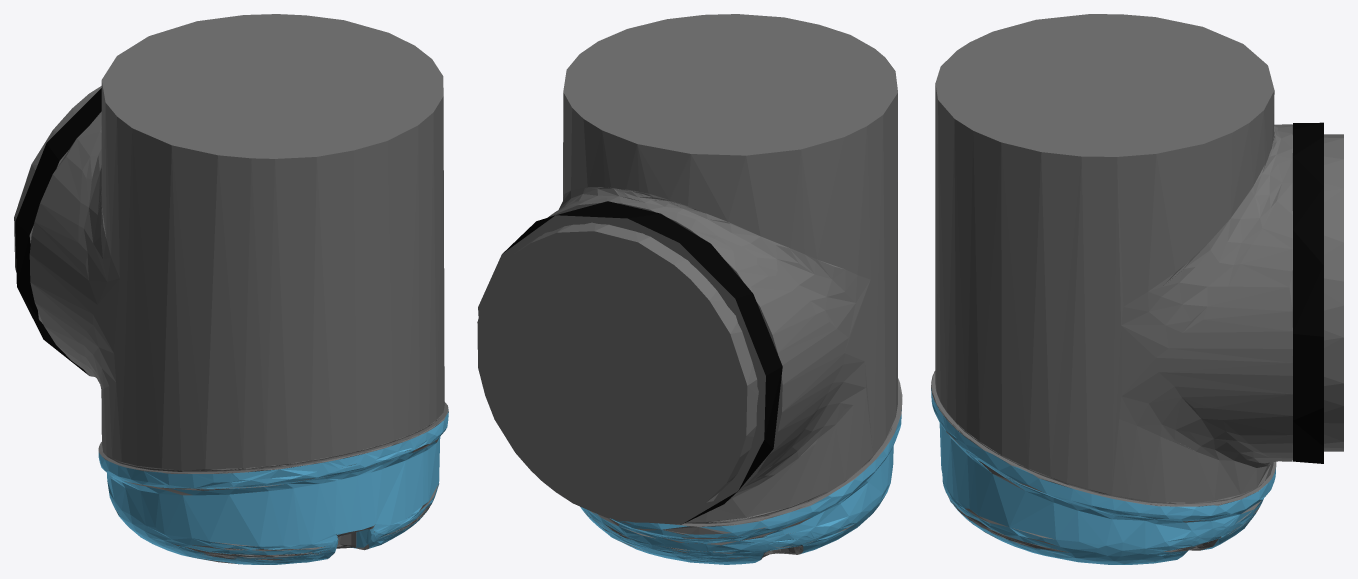
Rendered from wrist2.fbx.
3 renders of one model, left to right at view 1: azimuth 30°, elevation 25°; view 2: azimuth 150°, elevation 25°; view 3: azimuth 270°, elevation 25°, orthographic. The views are drawn at different scales.
Visible parts, largest first — view 1: wrist2; view 2: wrist2; view 3: wrist2.
Part boxes in pixels (bbox=[...]): wrist2: bbox=[14, 14, 448, 564]; wrist2: bbox=[477, 14, 902, 564]; wrist2: bbox=[931, 14, 1343, 564].
Bounding box in the file's own units: 6.44 × 8.87 × 7.68.
